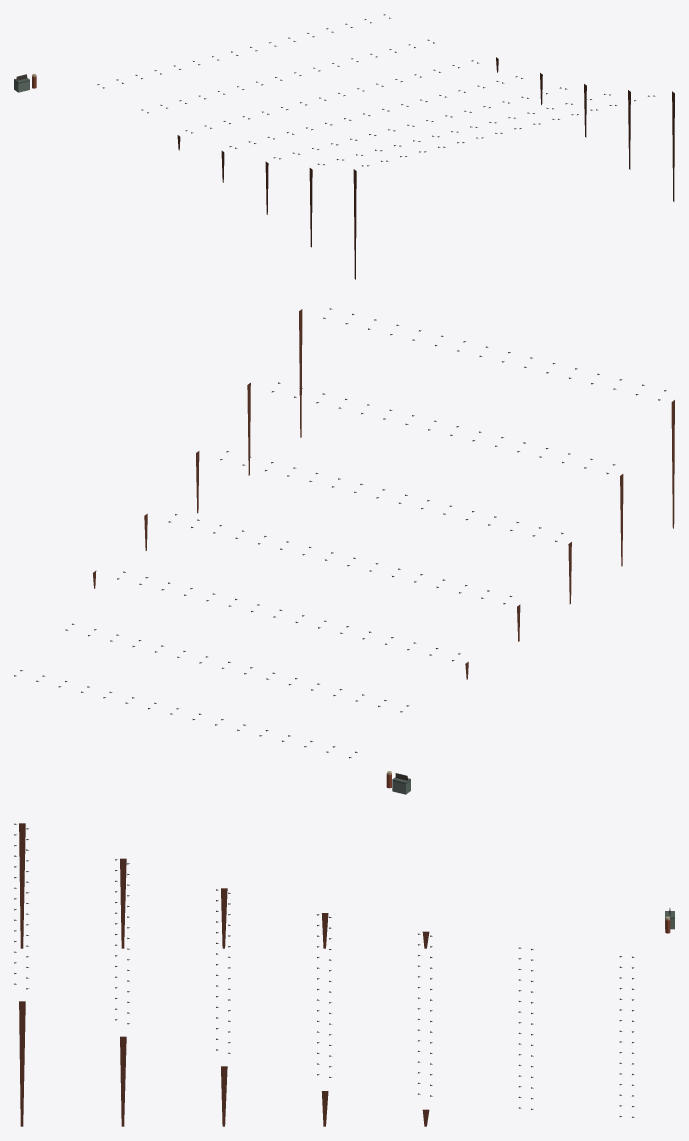
File: plate_kicker_18x4x10_detail2.glb
3 views of the same model, one above another, from view 1: azimuth 30°, elevation 25°; view 2: azimuth 150°, elevation 25°; view 3: azimuth 270°, elevation 25° (orthographic). The views are drawn at different scales.
Visible parts, largest first — view 1: plate_kicker_18x4x10_detail2; view 2: plate_kicker_18x4x10_detail2; view 3: plate_kicker_18x4x10_detail2.
Part boxes in pixels (x1=…): plate_kicker_18x4x10_detail2: x1=14, y1=14, x2=674, y2=279; plate_kicker_18x4x10_detail2: x1=14, y1=308, x2=674, y2=794; plate_kicker_18x4x10_detail2: x1=14, y1=823, x2=674, y2=1126.
Size of the model in its own units: 11.79 by 3.57 by 15.72.
